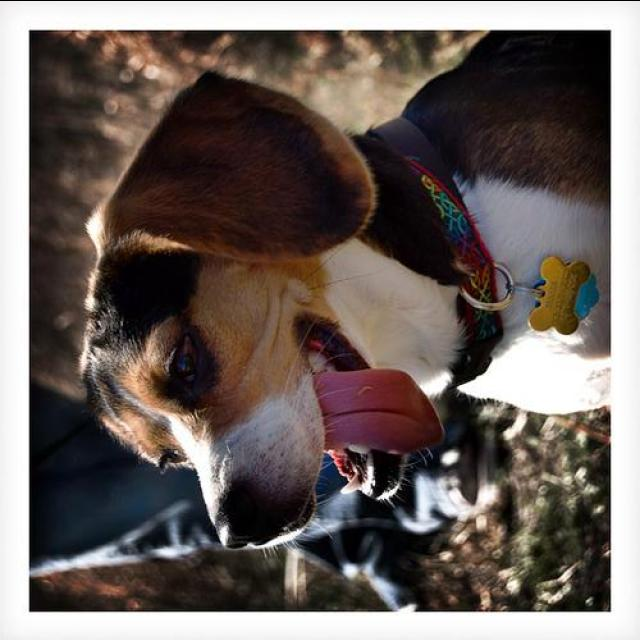beagle: (83, 27, 608, 550)
